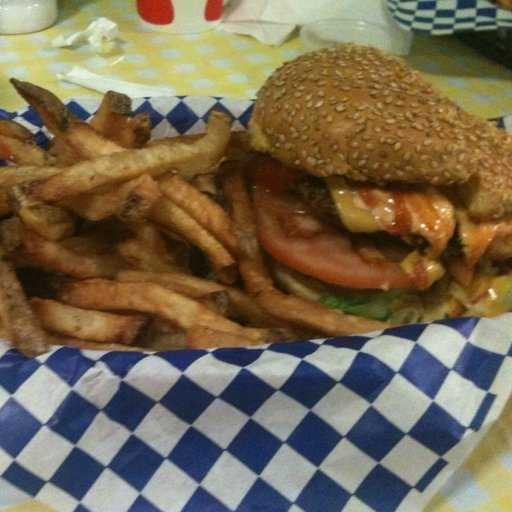hamburger: (232, 71, 471, 308)
